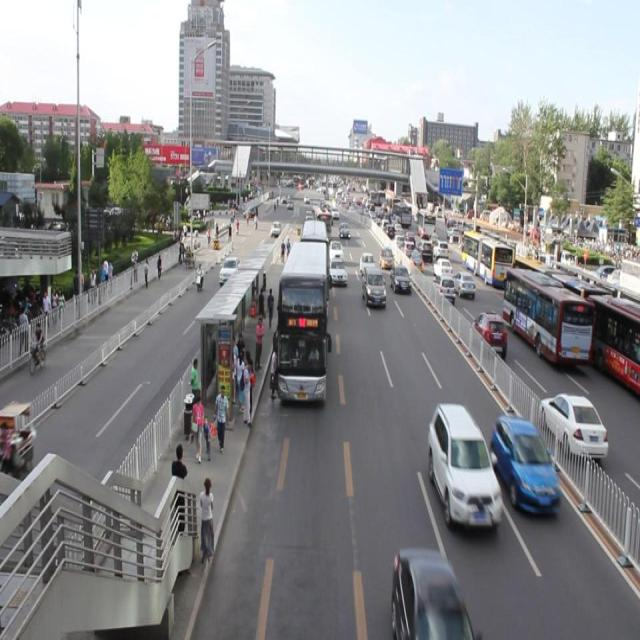car: (427, 402, 501, 526), (490, 414, 560, 513), (389, 548, 472, 630), (362, 266, 384, 308), (388, 262, 410, 290), (326, 256, 347, 284), (326, 236, 343, 264), (379, 247, 394, 271), (360, 251, 375, 272)
van: (278, 238, 327, 402), (299, 218, 329, 320)
